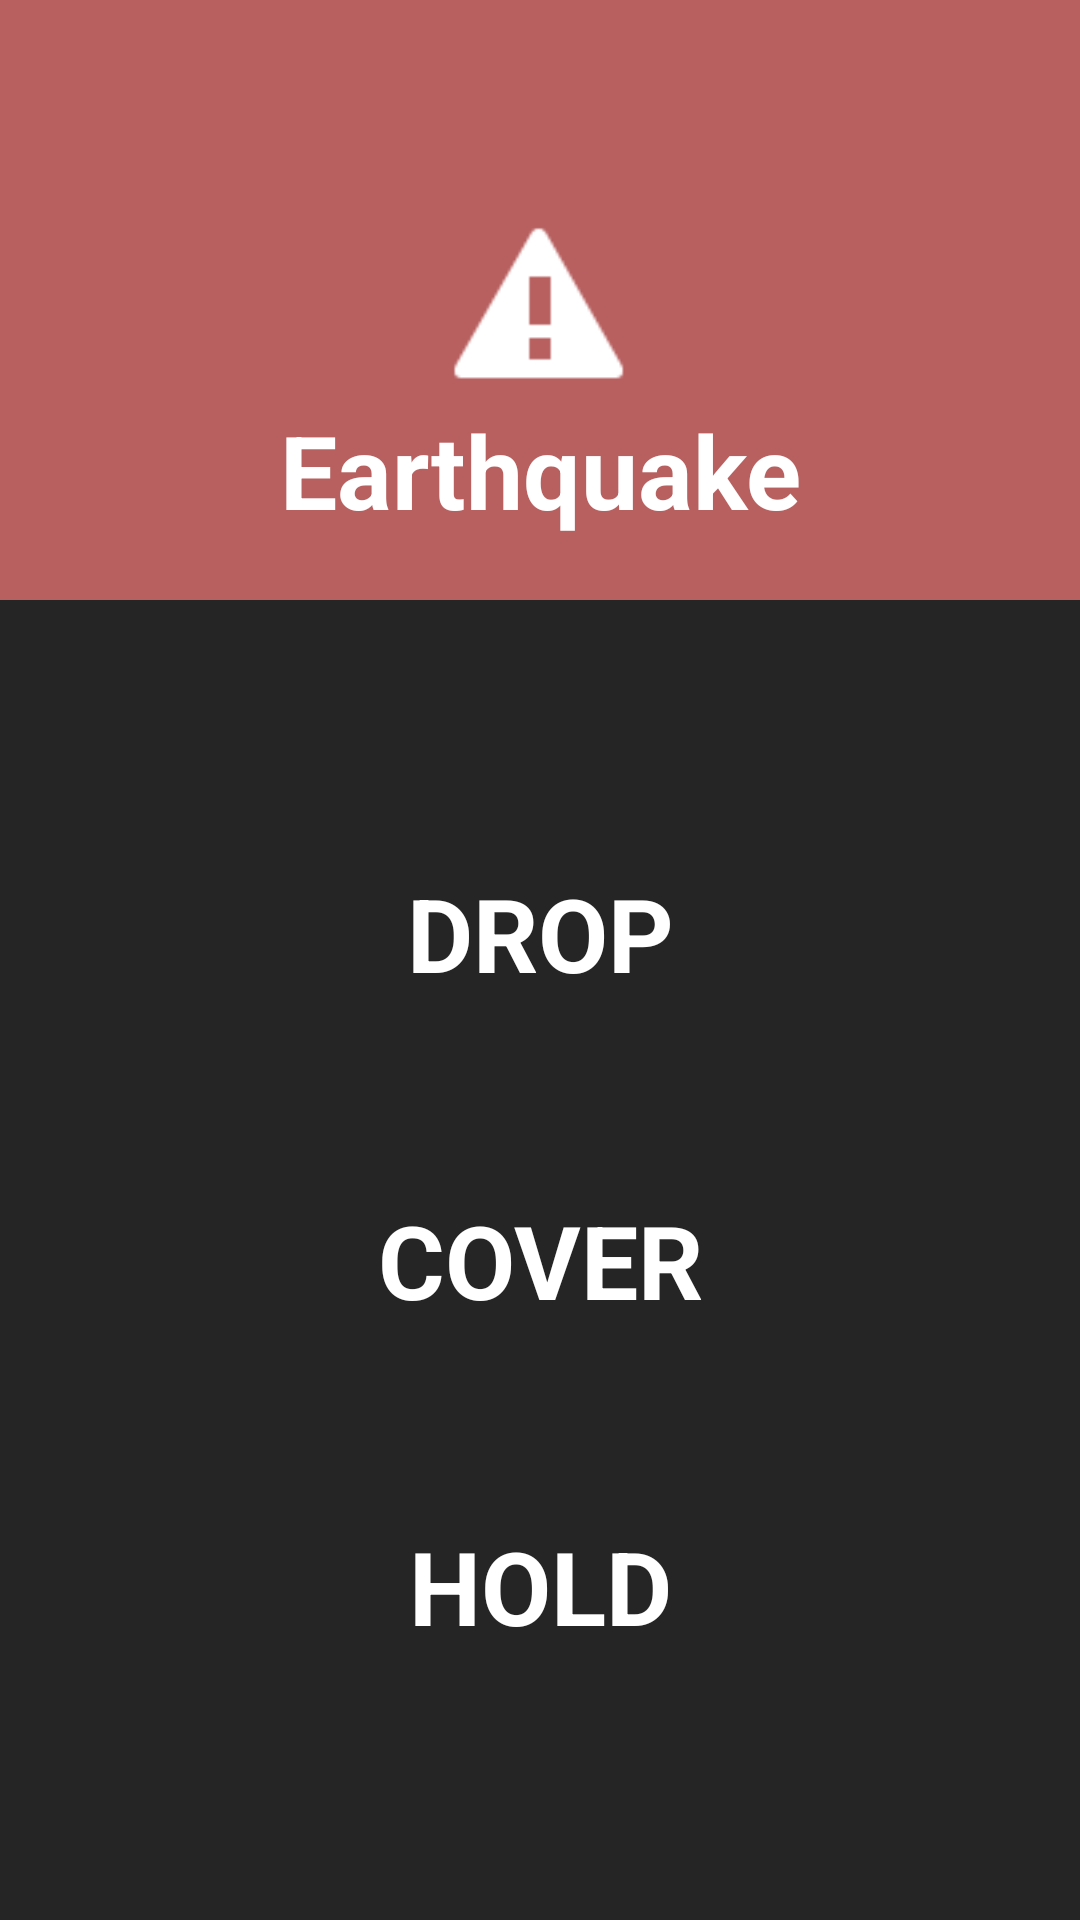

Screen size 1080 × 1920. Icon name, then its center in pixels as (x=x, y=y):
warning: (x=539, y=303)
